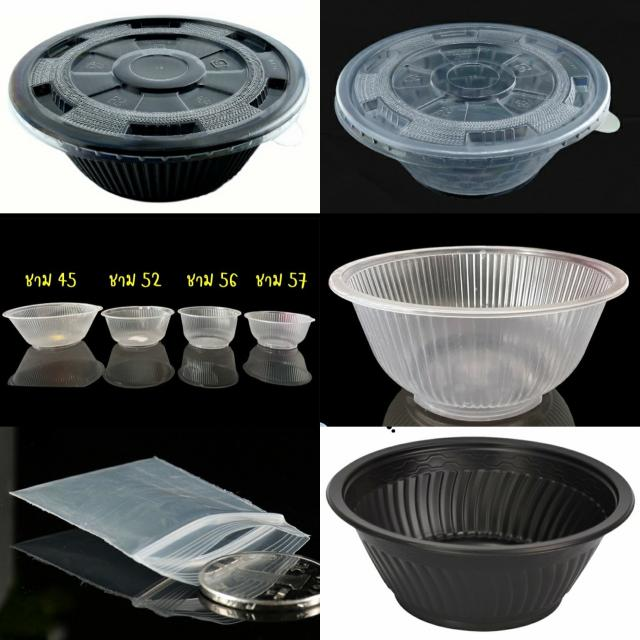Single-layer Plastic: (13, 458, 309, 585)
